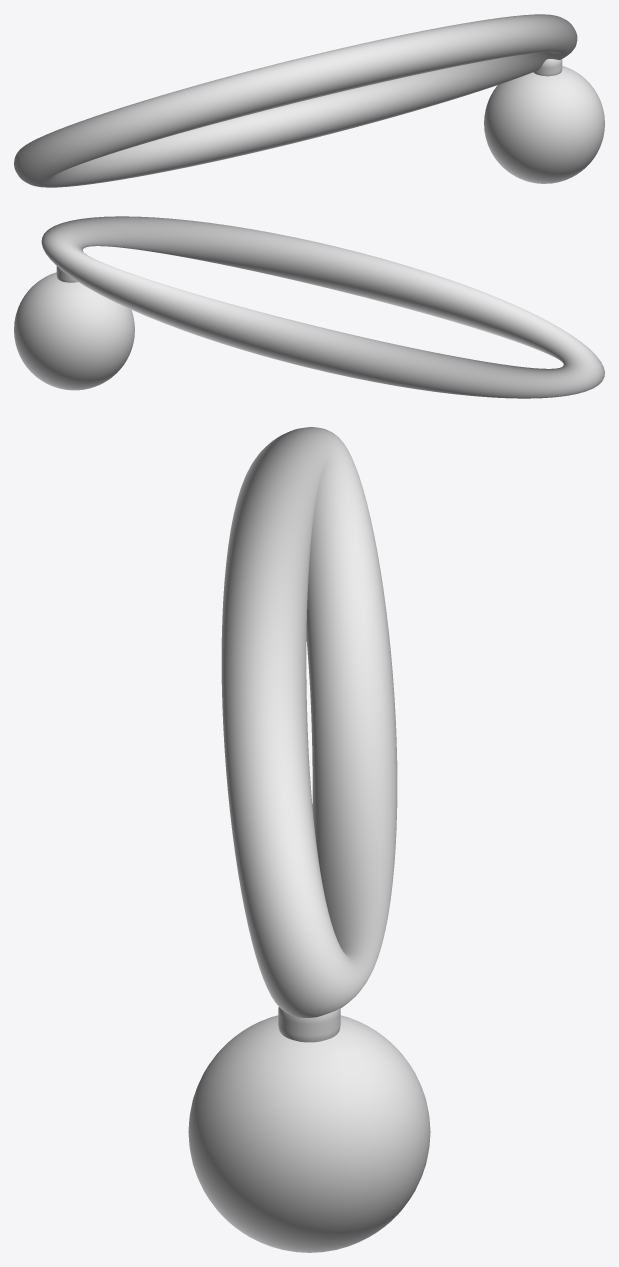
The model's file is zcollar-allwhi-tag-3d.glb.
3 renders of one model, top to bottom at view 1: azimuth 30°, elevation 25°; view 2: azimuth 150°, elevation 25°; view 3: azimuth 270°, elevation 25°, orthographic. The views are drawn at different scales.
Visible parts, largest first — view 1: mesh_id38, mesh_id64, mesh_id72; view 2: mesh_id38, mesh_id64; view 3: mesh_id38, mesh_id64, mesh_id72.
Part boxes in pixels (x1,y1,x2,y2): mesh_id38: (14, 14, 577, 187); mesh_id64: (484, 66, 604, 183); mesh_id72: (533, 59, 562, 76); mesh_id38: (41, 216, 604, 398); mesh_id64: (14, 272, 134, 390); mesh_id38: (221, 427, 397, 1017); mesh_id64: (188, 1015, 430, 1252); mesh_id72: (278, 1007, 340, 1042).
Bounding box in the file's own units: 0.3325 × 0.1031 × 0.06.
3 materials, 3 textured.
